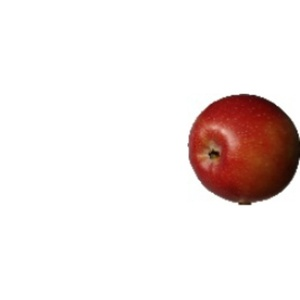maçã braeburn: (185, 92, 300, 202)
